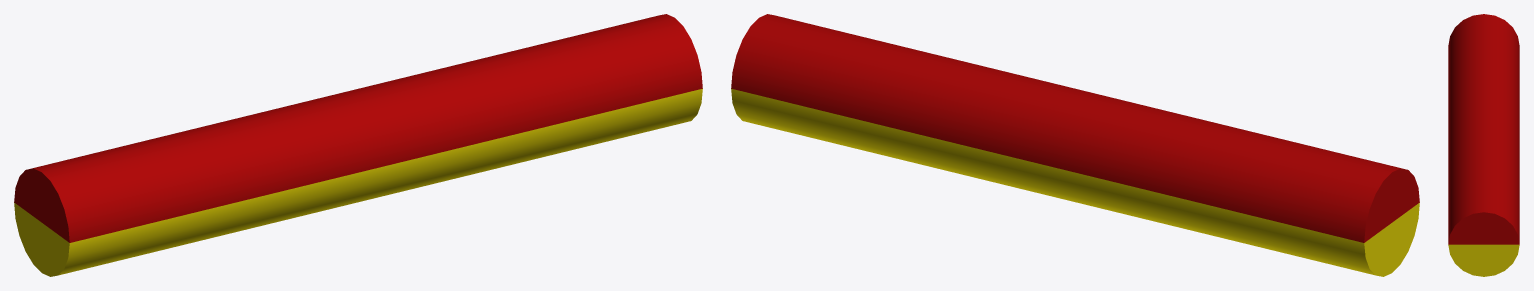
Rendered from Duck Obstacle 1.fbx.
3 views of the same model, side by side, from view 1: azimuth 30°, elevation 25°; view 2: azimuth 150°, elevation 25°; view 3: azimuth 270°, elevation 25° (orthographic). The views are drawn at different scales.
Visible parts, largest first — view 1: Duck_1; view 2: Duck_1; view 3: Duck_1.
Boxes of the visible parts, <box> form: Duck_1: <box>14,14,702,276</box>; Duck_1: <box>731,14,1419,276</box>; Duck_1: <box>1448,14,1519,276</box>.
Bounding box in the file's own units: 57.46 × 8.75 × 8.75.
